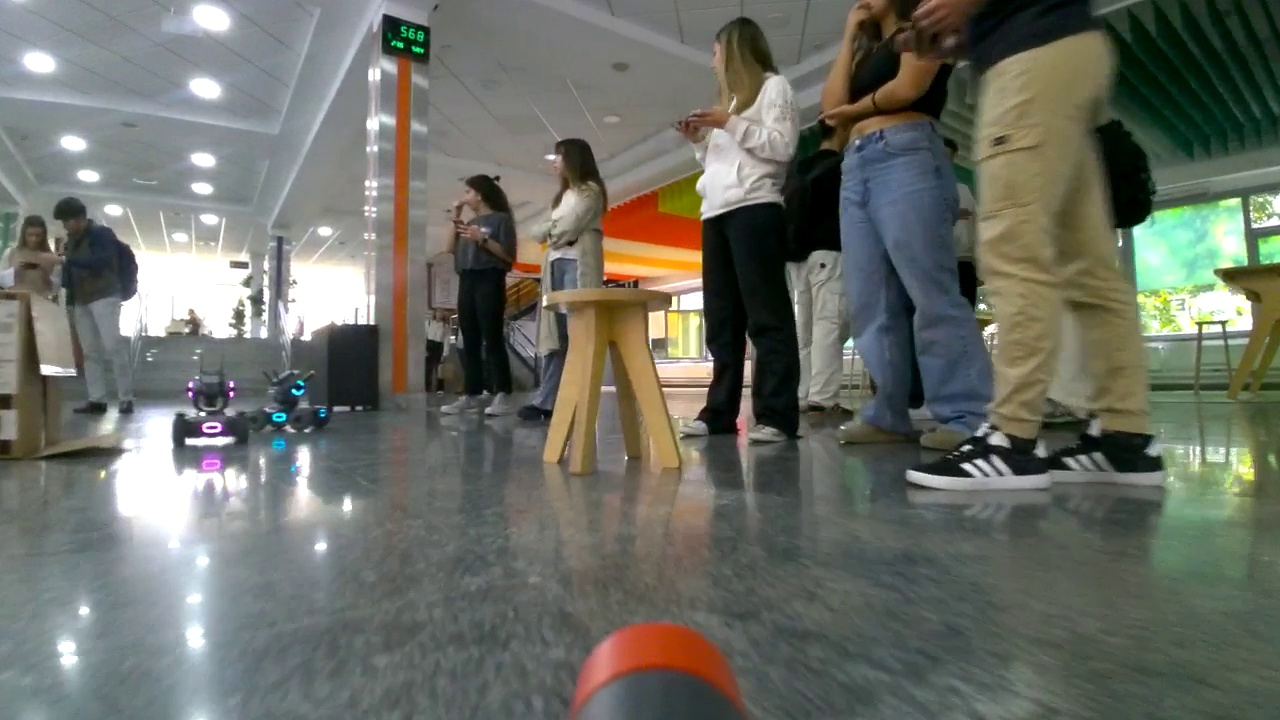robot: (169, 371, 251, 453), (252, 372, 333, 436)
